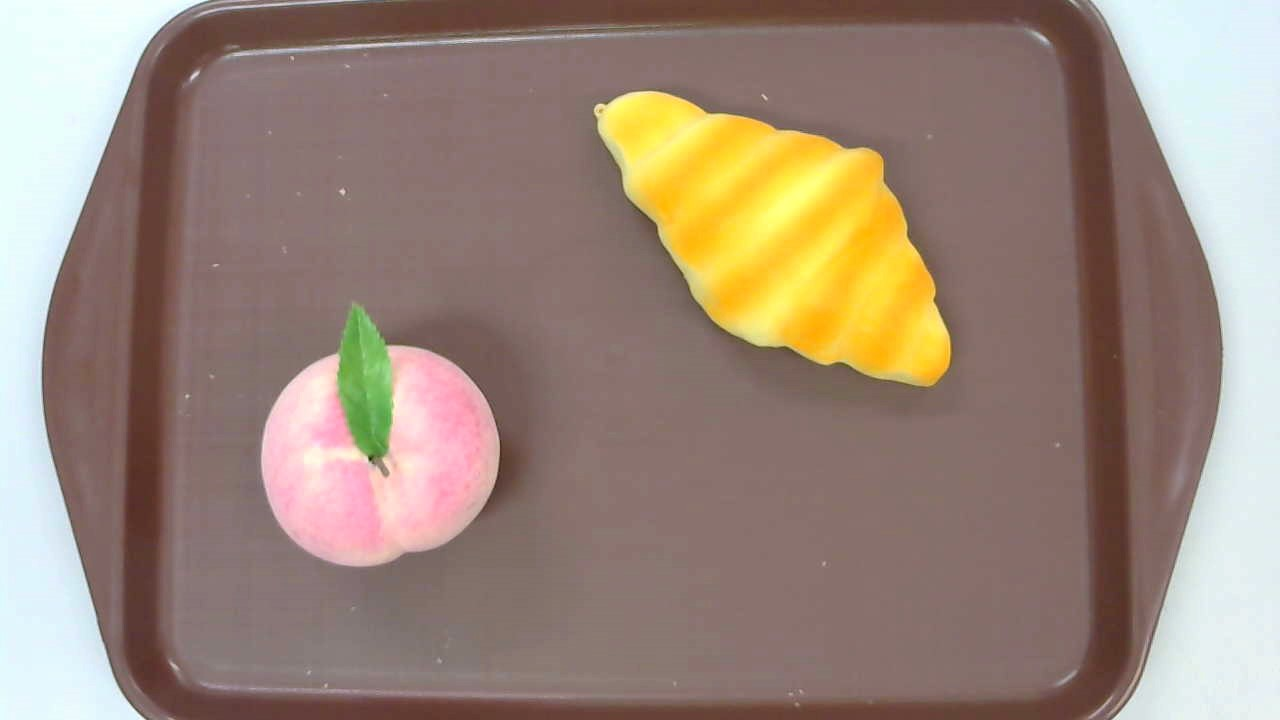croissant: (595, 91, 952, 385)
peach: (260, 300, 500, 567)
